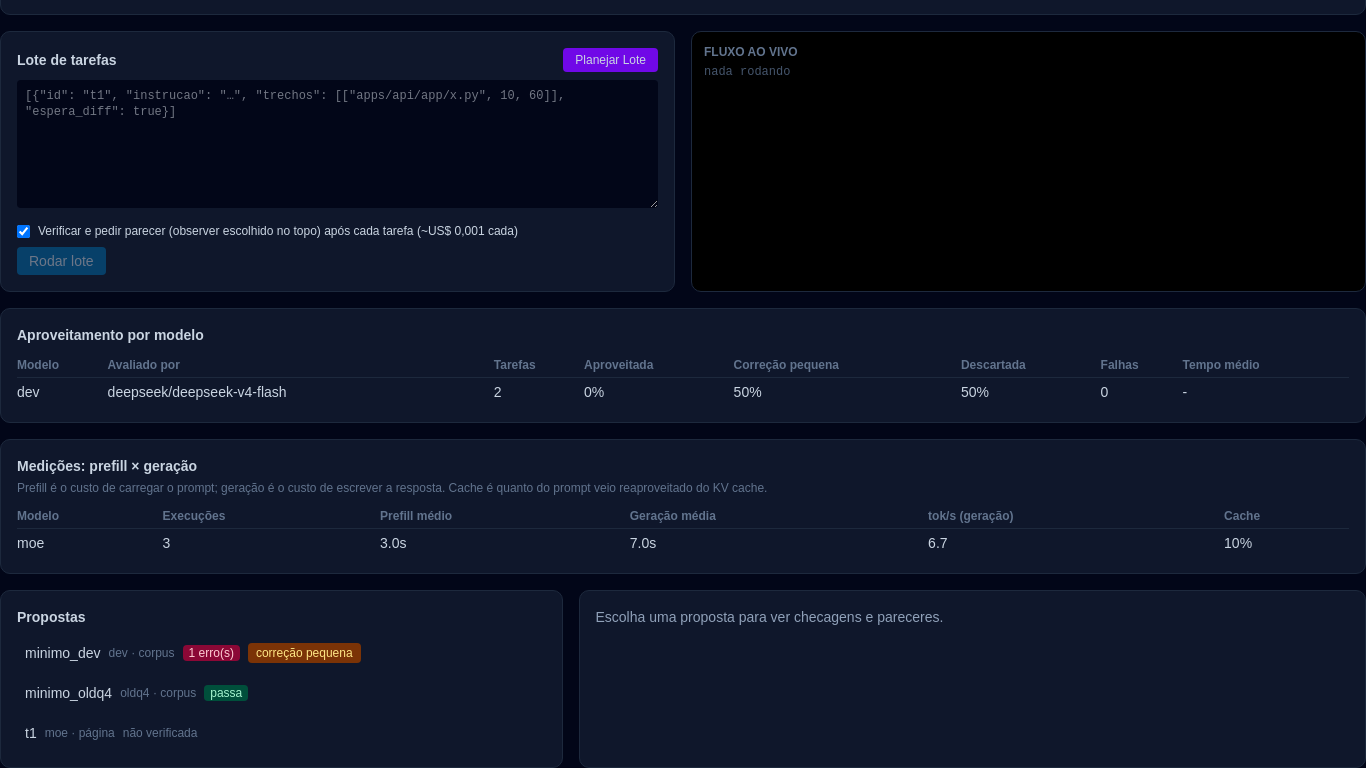
Test: Bancada Local › proposta do corpus só lê: sem Verificar, Parecer nem Reenviar
The image size is (1366, 768).
(page scrolled)
Step 1. Click the button "minimo_dev dev · corpus 1 erro(s) correção pequena" → [281, 653], box 17,635 -> 546,671
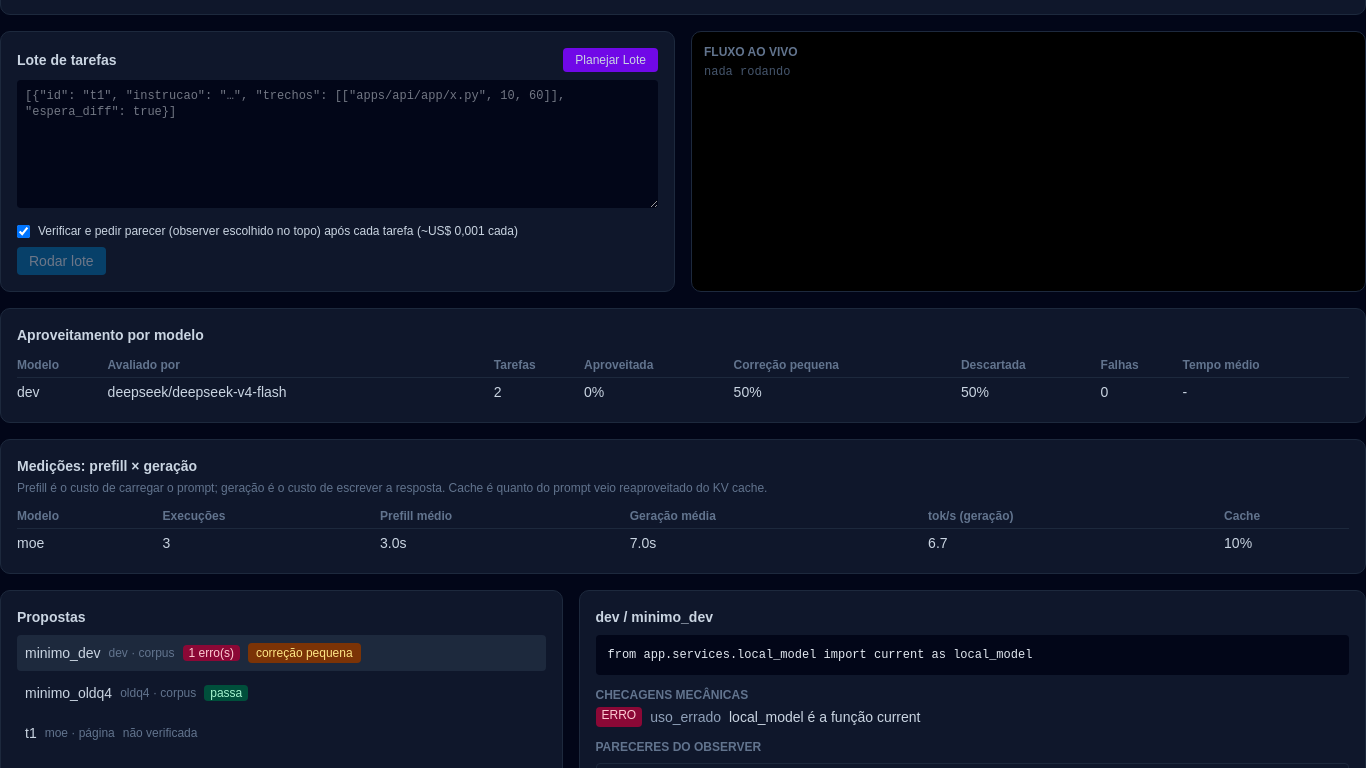
Expected: the text "local_model é a função current" is shown, 729,707 -> 920,727
